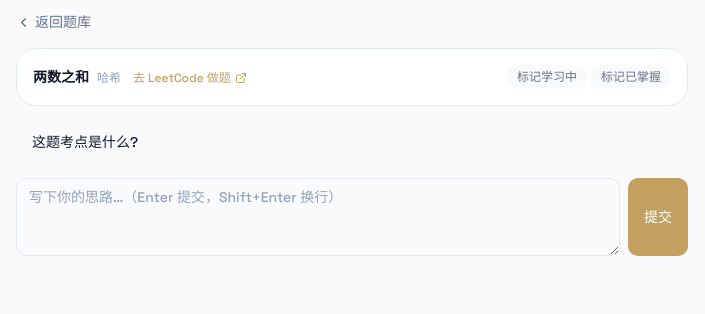
Test: LcGuide › starts guide, answers, reaches done
Expected: the text "这题考点是什么?" is shown, [16, 122, 587, 162]
Type "哈希表" into the text box named "你的思考". click: (318, 217)
box: [16, 178, 620, 256]
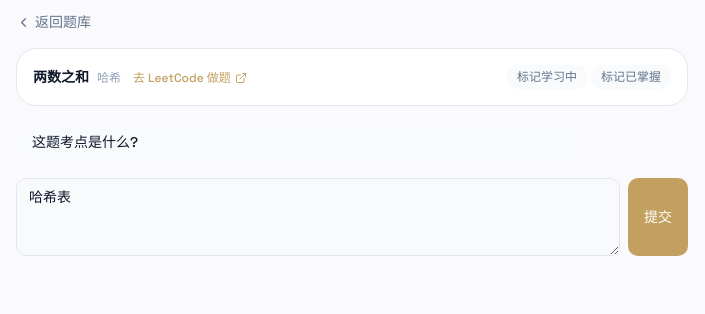
Click the button "提交". click: (658, 217)
box: [628, 178, 688, 256]
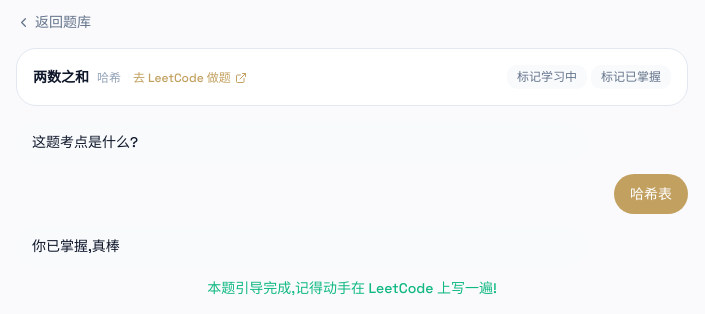
Result: the text "本题引导完成,记得动手在 LeetCode 上写一遍!" is shown at [207, 279, 497, 297]
